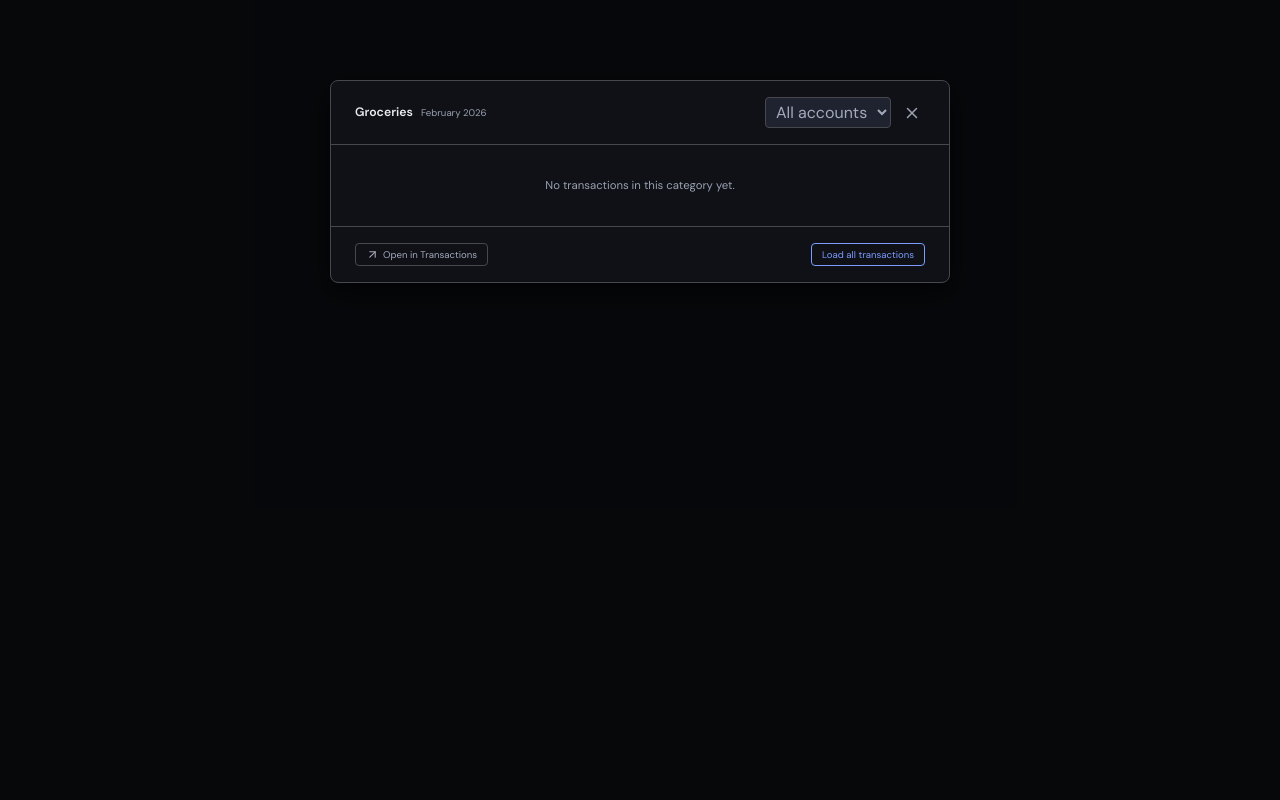
Test: the Activity peek › drops the month when asked to load everything
The width and height of the screenshot is (1280, 800).
What coordinates should you click on to do the following:
click the button "Load all transactions"
I would click on:
 (868, 255)
Its box is x1=811 y1=243 x2=925 y2=266.
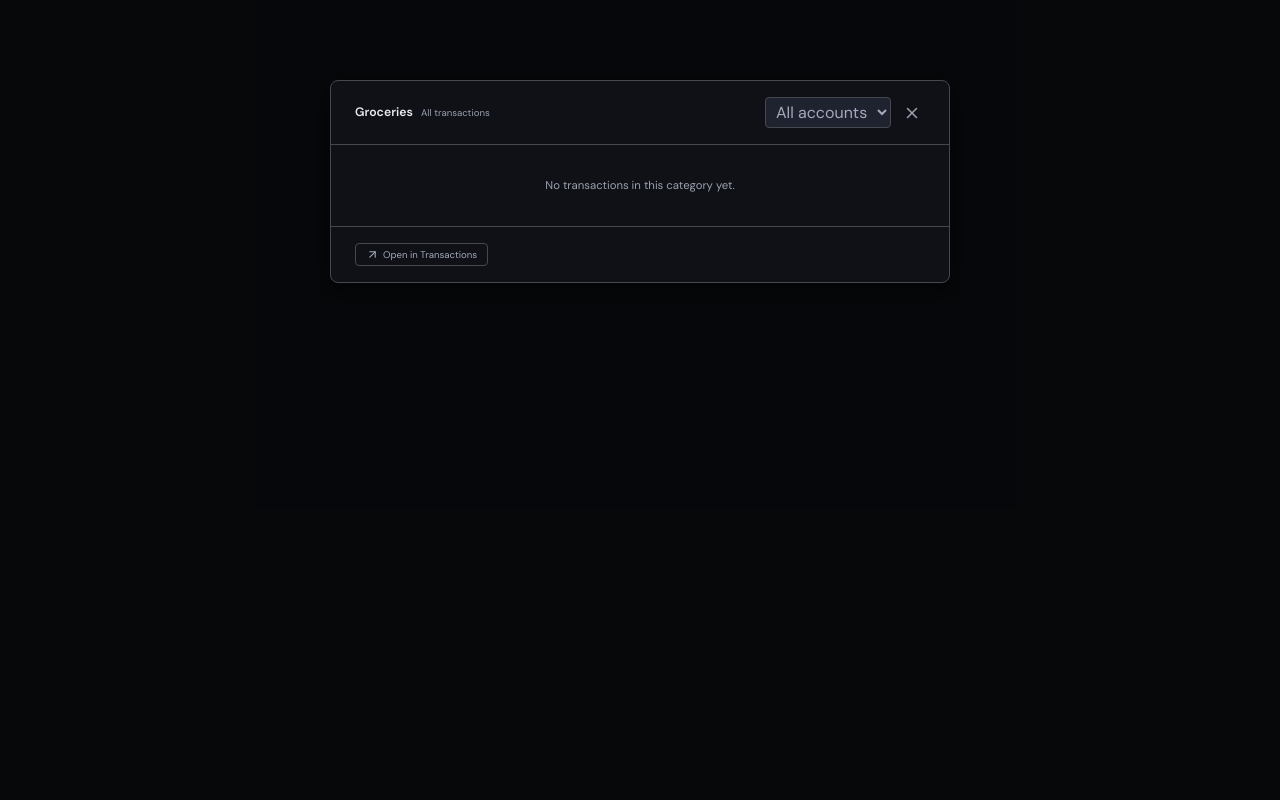
Check: the text "All transactions" is shown, box x1=421 y1=106 x2=490 y2=121
